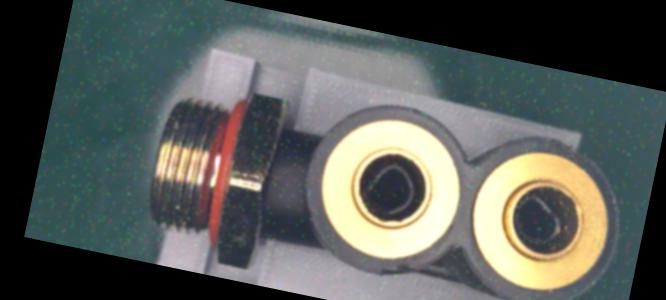bump: (371, 256, 421, 284), (550, 138, 594, 161)
joint line: (267, 175, 303, 189)
off-centered: (506, 190, 574, 255), (358, 160, 424, 218)
white mark: (277, 161, 298, 179)
